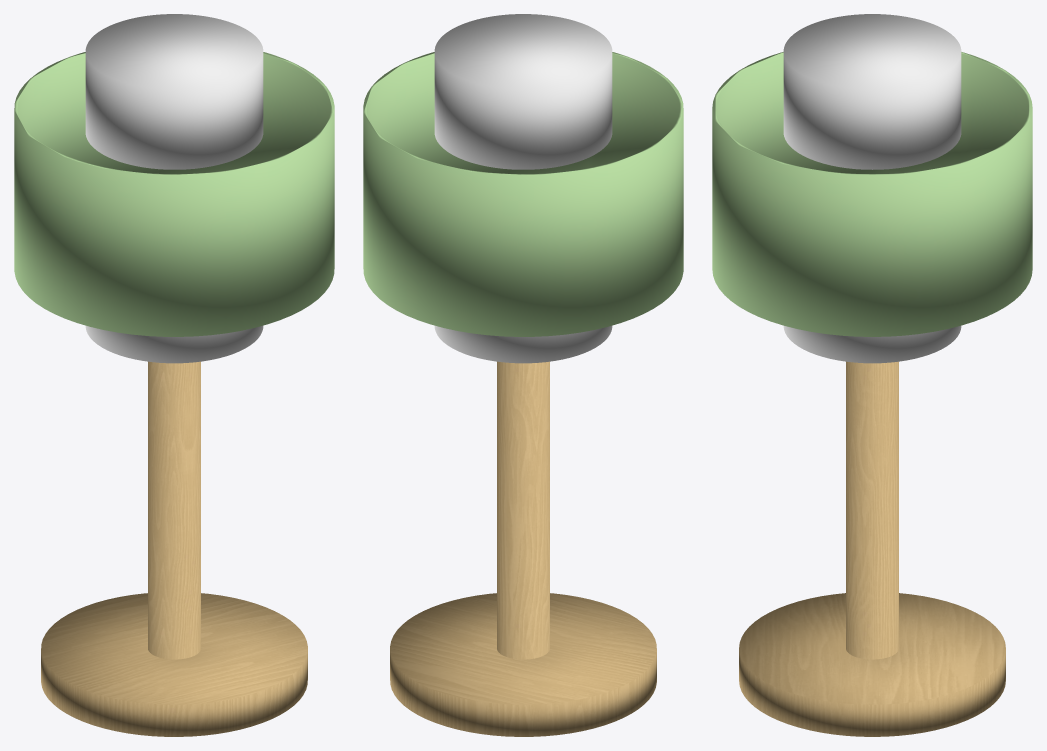
Rendered from lamp.glb.
3 views of the same model, side by side, from view 1: azimuth 30°, elevation 25°; view 2: azimuth 150°, elevation 25°; view 3: azimuth 270°, elevation 25° (orthographic).
Parts seen in each view (by area): view 1: BASE; view 2: BASE; view 3: BASE.
Boxes of the visible parts, x1,y1,x2,y2 form: BASE: [14, 14, 334, 736]; BASE: [363, 14, 683, 736]; BASE: [712, 14, 1032, 736].
Size of the model in its own units: 0.18 by 0.39 by 0.18.
3 materials, 3 textured.
